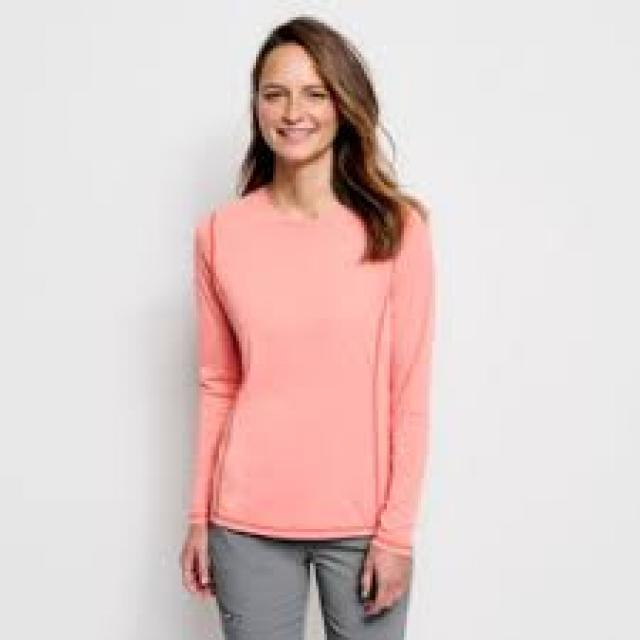plain: (181, 168, 446, 558)
